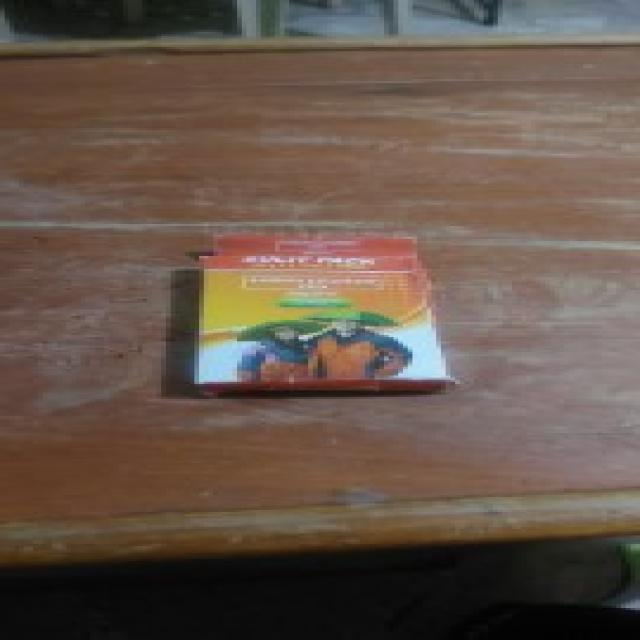Cacat: (191, 233, 429, 395)
